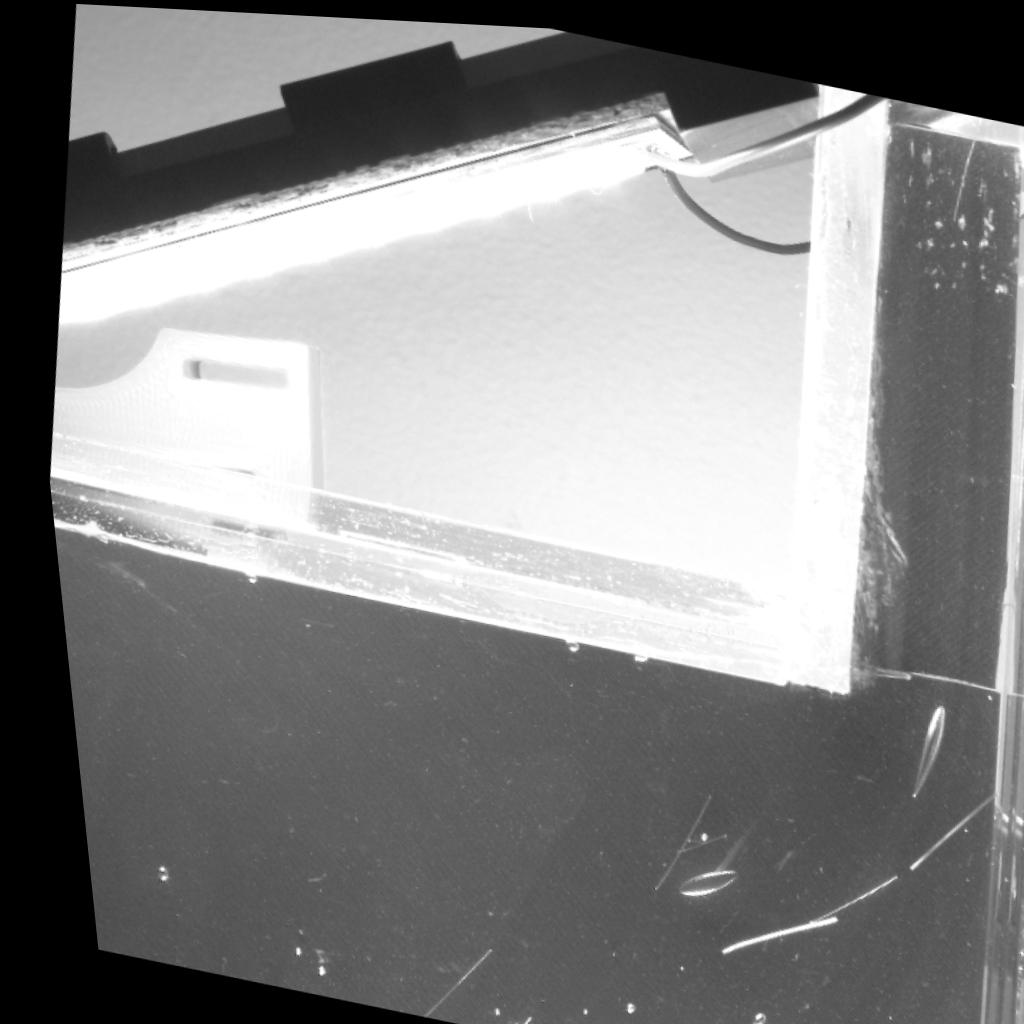Fiber: (887, 778, 983, 862), (629, 783, 700, 889), (397, 939, 475, 1014), (697, 906, 818, 950), (785, 863, 882, 917), (946, 111, 983, 210)
